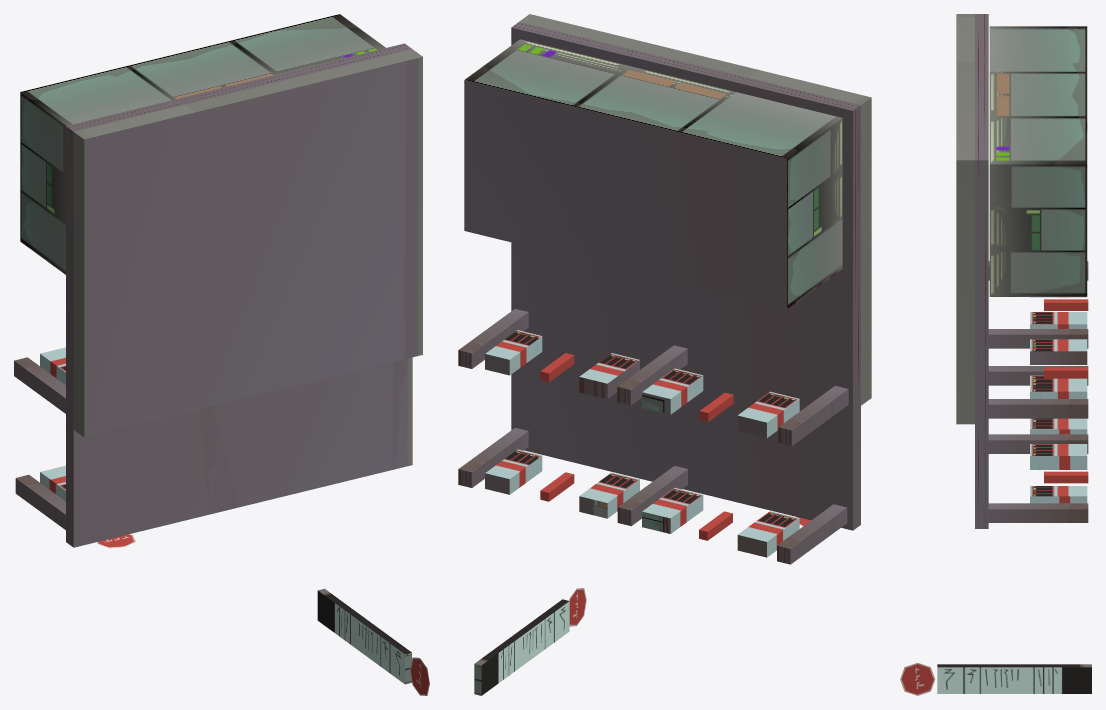
The model's file is FUEL STOP.fbx.
3 views of the same model, side by side, from view 1: azimuth 30°, elevation 25°; view 2: azimuth 150°, elevation 25°; view 3: azimuth 270°, elevation 25° (orthographic). The views are drawn at different scales.
Parts seen in each view (by area): view 1: FEUK_STOP; view 2: FEUK_STOP; view 3: FEUK_STOP.
Boxes of the visible parts, x1,y1,x2,y2 form: FEUK_STOP: [14, 14, 429, 695]; FEUK_STOP: [458, 14, 871, 695]; FEUK_STOP: [900, 14, 1091, 695].
Size of the model in its own units: 19.06 by 33.16 by 10.55.
